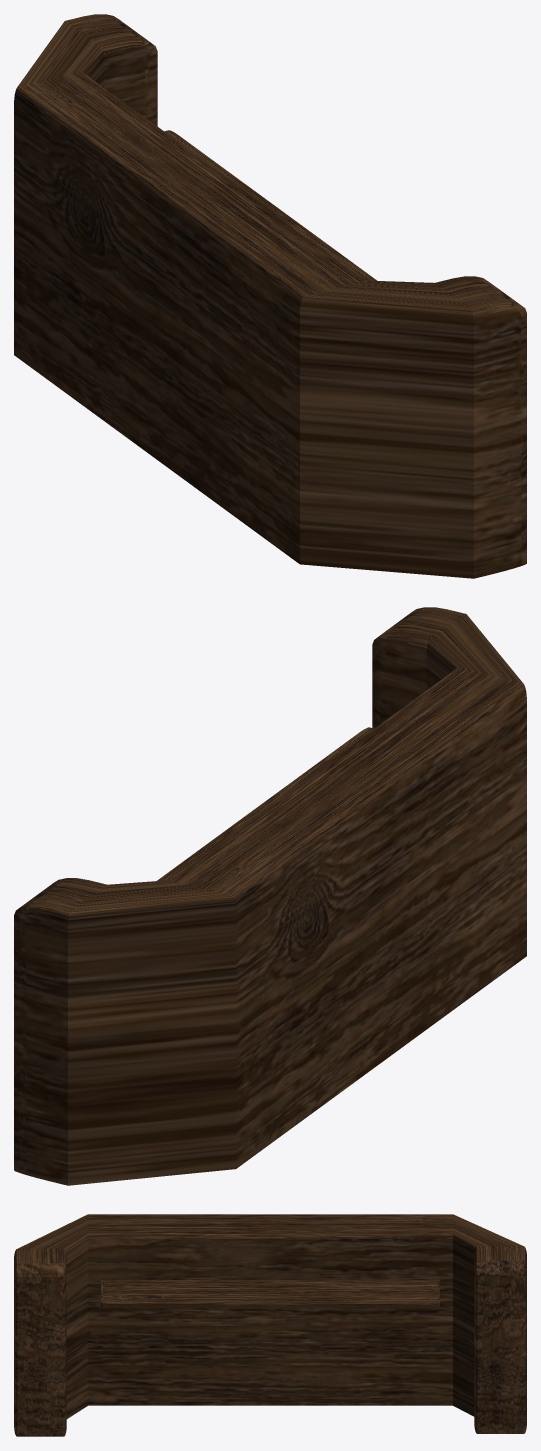
Rendered from Balcao.fbx.
3 views of the same model, one above another, from view 1: azimuth 30°, elevation 25°; view 2: azimuth 150°, elevation 25°; view 3: azimuth 270°, elevation 25° (orthographic). The views are drawn at different scales.
Visible parts, largest first — view 1: Cube, Cube.003, Cube.005, Cube.001; view 2: Cube, Cube.003, Cube.005, Cube.001; view 3: Cube, Cube.003, Cube.001, Cube.005.
Part boxes in pixels (x1,y1,x2,y2): Cube: [14, 40, 473, 578]; Cube.003: [14, 14, 526, 327]; Cube.005: [60, 25, 526, 578]; Cube.001: [164, 130, 377, 280]; Cube: [14, 641, 526, 1185]; Cube.003: [14, 607, 526, 929]; Cube.005: [15, 634, 426, 1185]; Cube.001: [157, 727, 373, 880]; Cube: [17, 1231, 524, 1436]; Cube.003: [14, 1214, 526, 1276]; Cube.001: [101, 1280, 439, 1308]; Cube.005: [14, 1248, 526, 1436].
Bounding box in the file's own units: 101 × 151 × 410.
3 materials, 3 textured.
